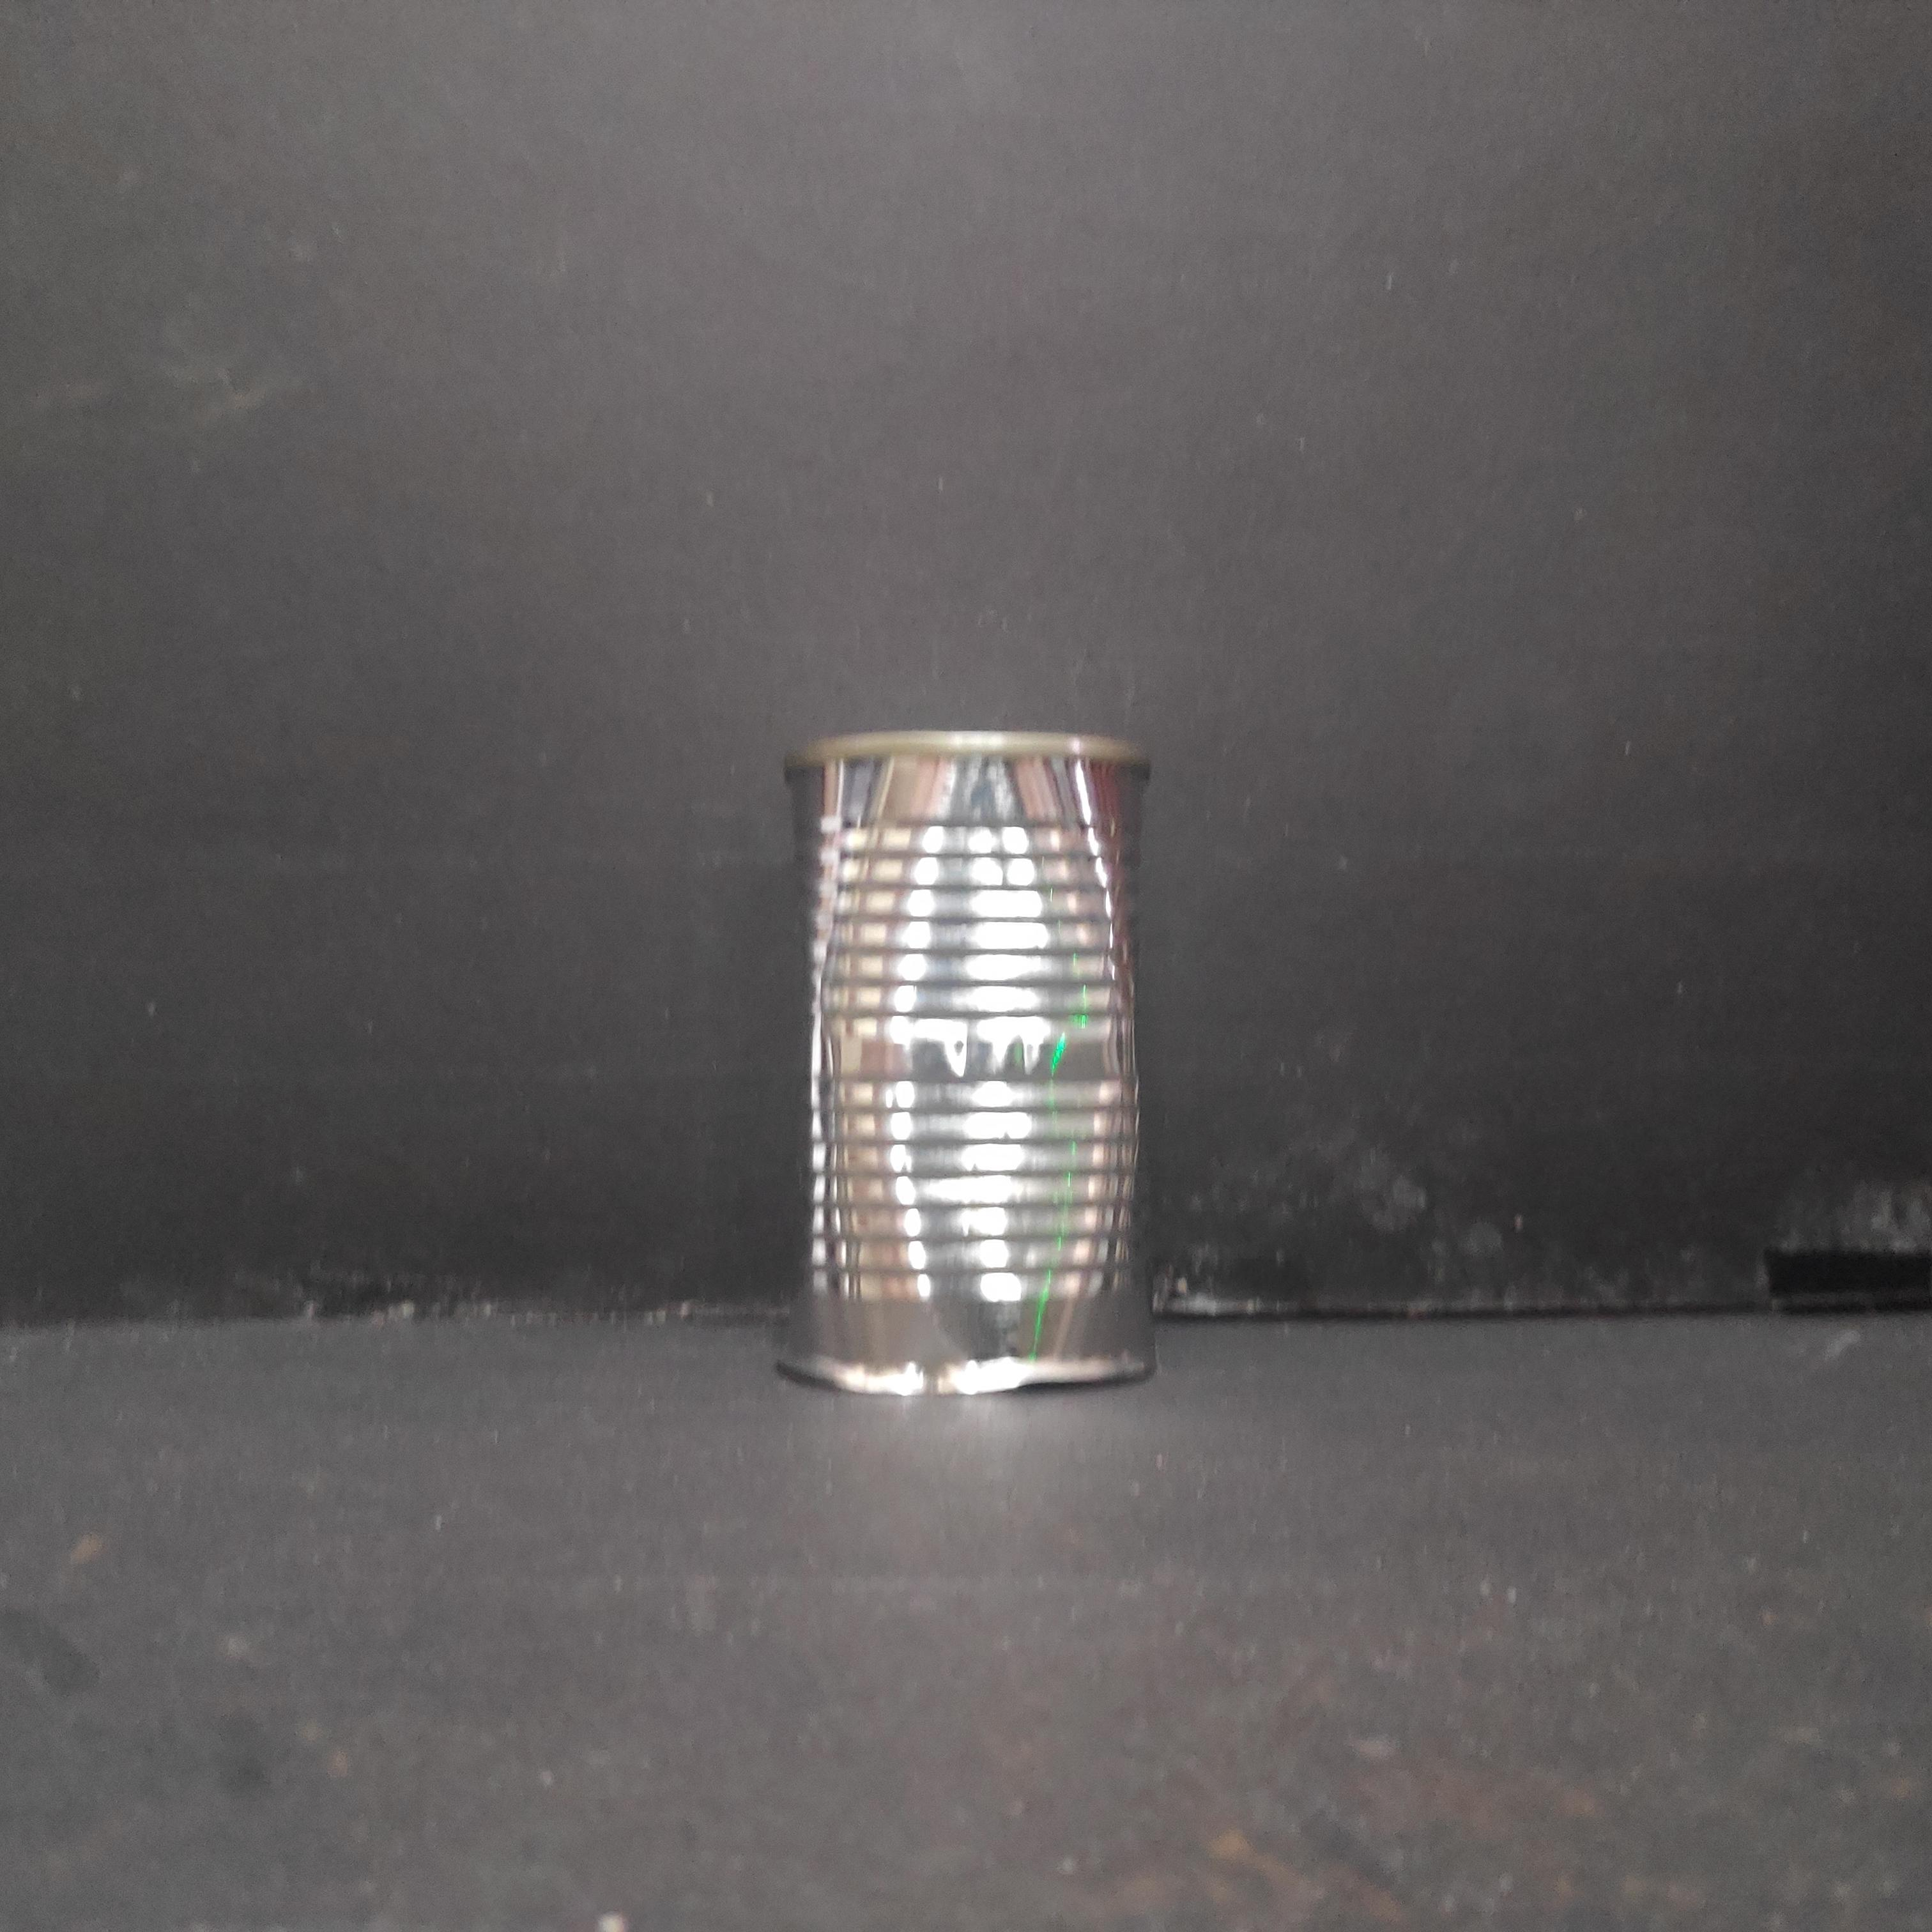Minor Defect: (771, 722, 1164, 1417)
